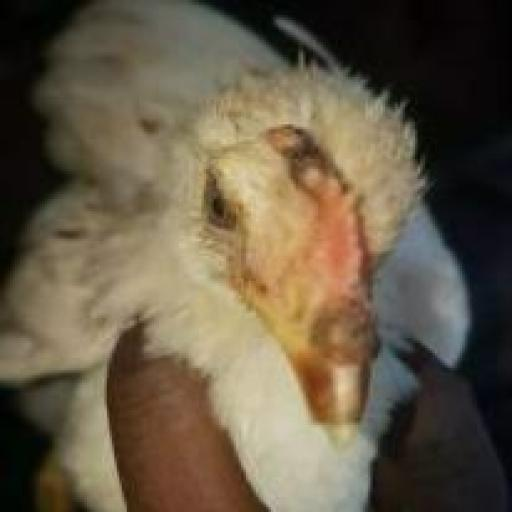disease: (300, 268, 385, 378)
